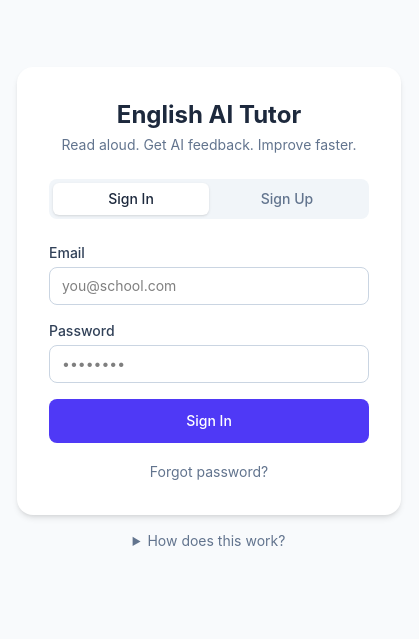
it: LoginPage — tagline and onboarding context › expands the disclosure to reveal three steps when clicked
Click the heading "How does this work?" at (216, 540), box x1=148 y1=532 x2=285 y2=549
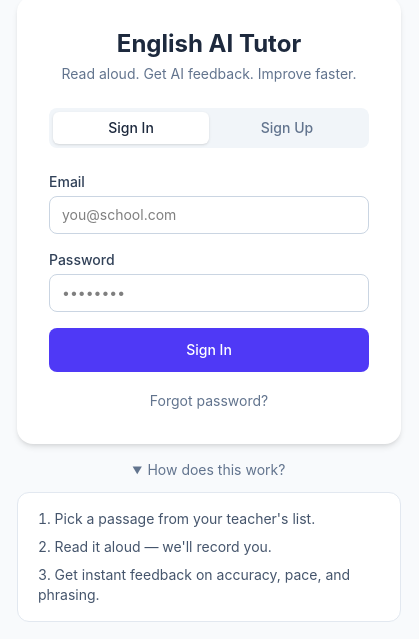
Result: the list item "Pick a passage from your teacher's list." is shown at x1=55 y1=510 x2=315 y2=527
Result: the list item "Read it aloud — we'll record you." is shown at x1=55 y1=538 x2=272 y2=555
Result: the list item "Get instant feedback on accuracy, pace, and phrasing." is shown at x1=38 y1=565 x2=380 y2=605
